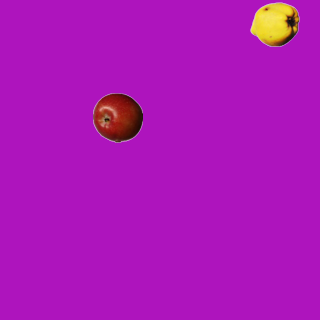Apple Braeburn: (92, 92, 142, 142)
Quince: (249, 0, 299, 49)
